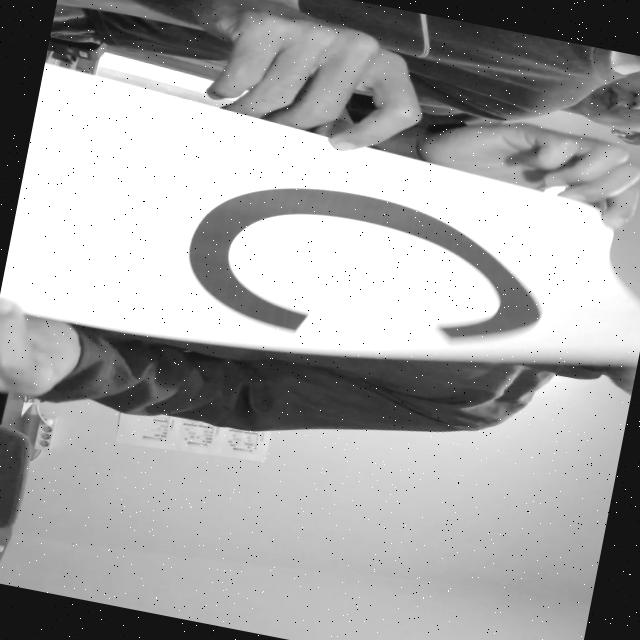c: (174, 147, 560, 386)
